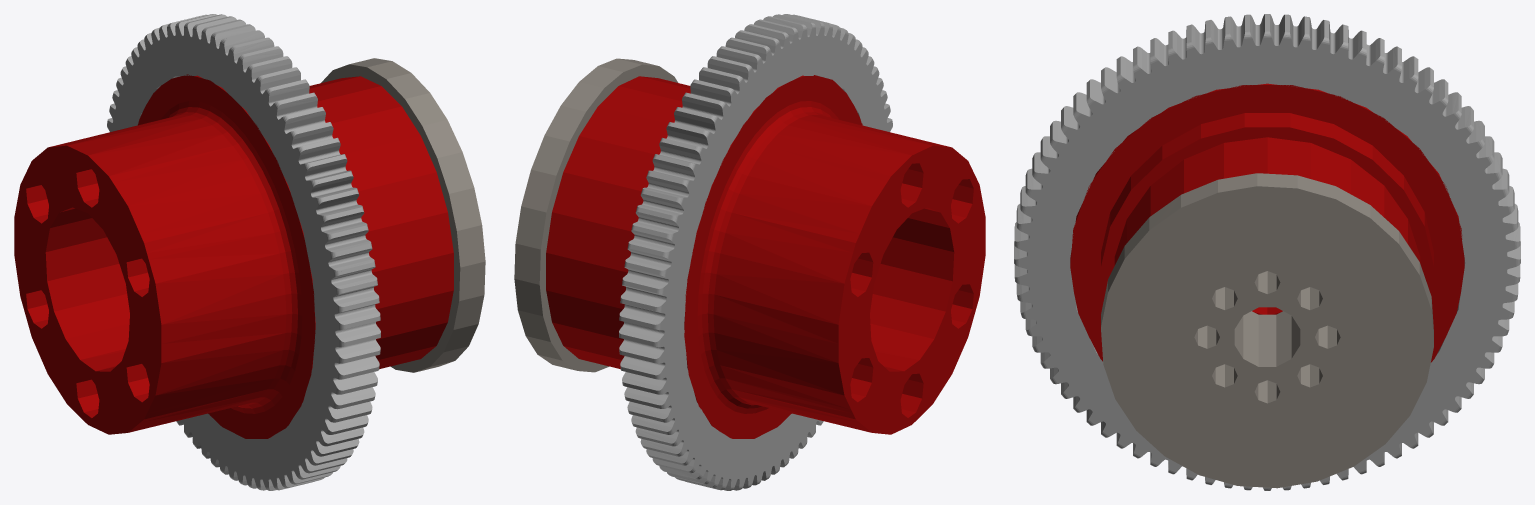
File: corvus_link_6.dae
The picture shows the model from 3 angles, left to right: view 1: azimuth 30°, elevation 25°; view 2: azimuth 150°, elevation 25°; view 3: azimuth 270°, elevation 25°; orthographic projection. The views are drawn at different scales.
Visible parts, largest first — view 1: node; view 2: node; view 3: node.
Boxes of the visible parts, x1=… form: node: x1=14, y1=14, x2=485, y2=490; node: x1=514, y1=14, x2=985, y2=490; node: x1=1014, y1=14, x2=1520, y2=490.
Bounding box in the file's own units: 0.0629 × 0.082 × 0.082.
